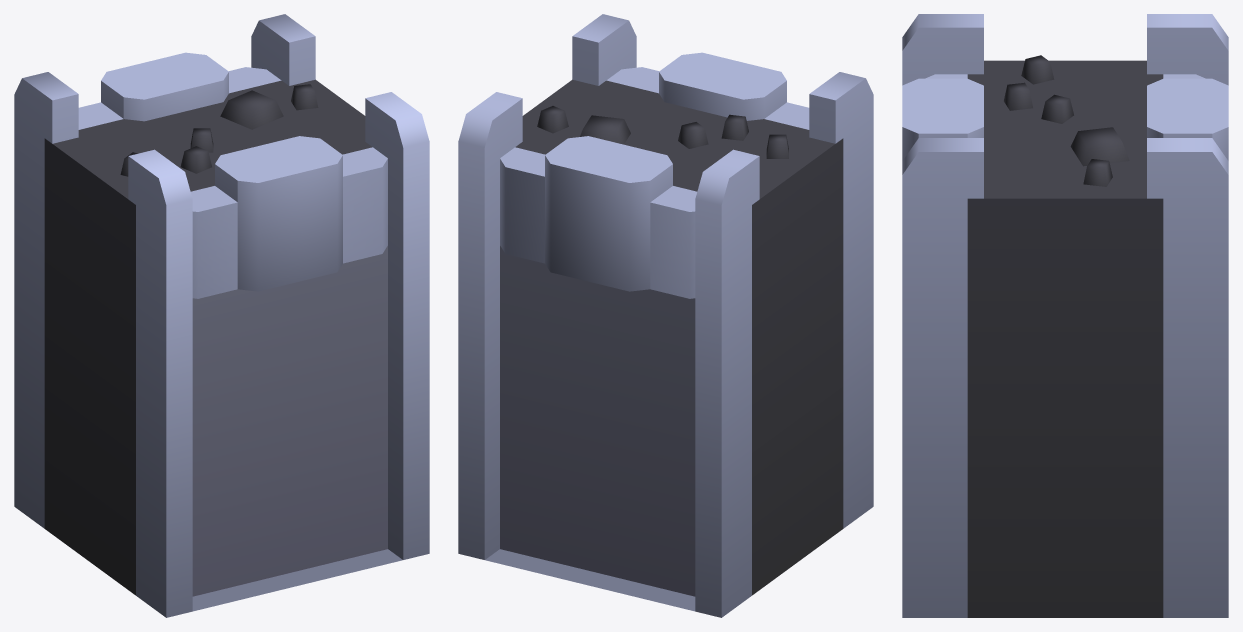
File: wall-narrow.046_lev4.glb
3 views of the same model, side by side, from view 1: azimuth 30°, elevation 25°; view 2: azimuth 150°, elevation 25°; view 3: azimuth 270°, elevation 25° (orthographic). The views are drawn at different scales.
Parts seen in each view (by area): view 1: wall-narrow.046_lev4; view 2: wall-narrow.046_lev4; view 3: wall-narrow.046_lev4.
Part boxes in pixels (bbox=[...]): wall-narrow.046_lev4: bbox=[14, 14, 429, 617]; wall-narrow.046_lev4: bbox=[458, 14, 873, 617]; wall-narrow.046_lev4: bbox=[902, 14, 1228, 617].
Size of the model in its own units: 6.99 by 11.02 by 6.99.
1 material, 1 textured.
